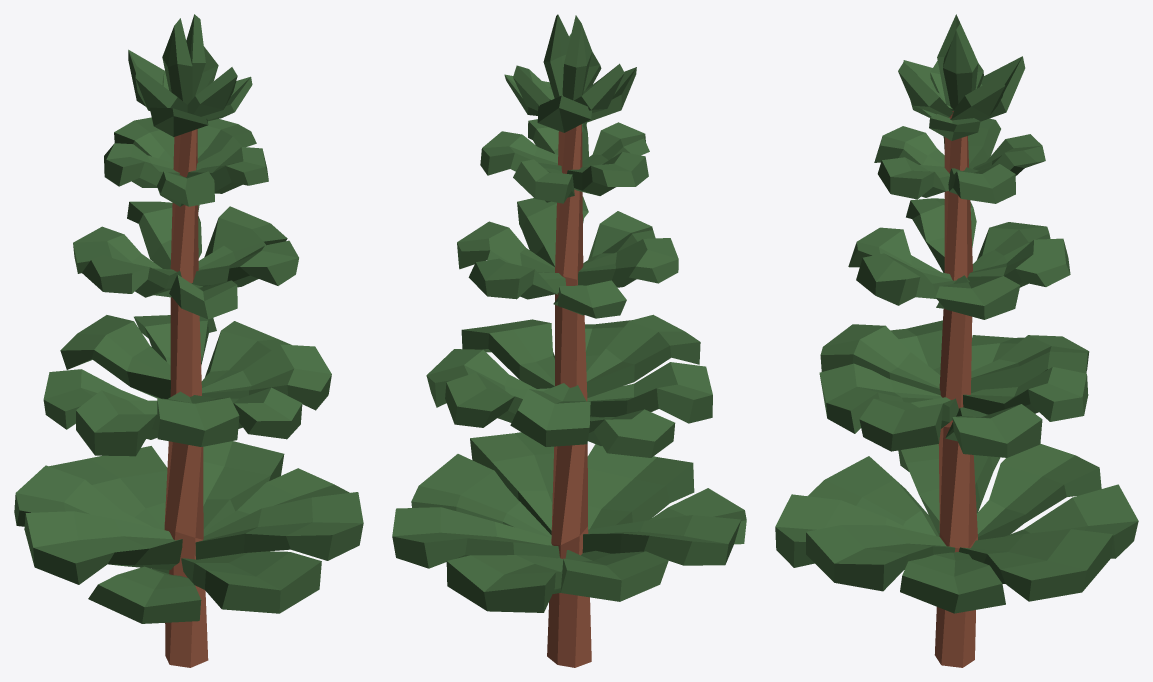
The model's file is Tree_6_High.fbx.
3 renders of one model, left to right at view 1: azimuth 30°, elevation 25°; view 2: azimuth 150°, elevation 25°; view 3: azimuth 270°, elevation 25°, orthographic.
Visible parts, largest first — view 1: Tree_6_High; view 2: Tree_6_High; view 3: Tree_6_High.
Part boxes in pixels (x1=…): Tree_6_High: x1=14, y1=14, x2=363, y2=667; Tree_6_High: x1=392, y1=14, x2=746, y2=667; Tree_6_High: x1=775, y1=14, x2=1138, y2=667.
Bounding box in the file's own units: 129 × 260 × 133.
